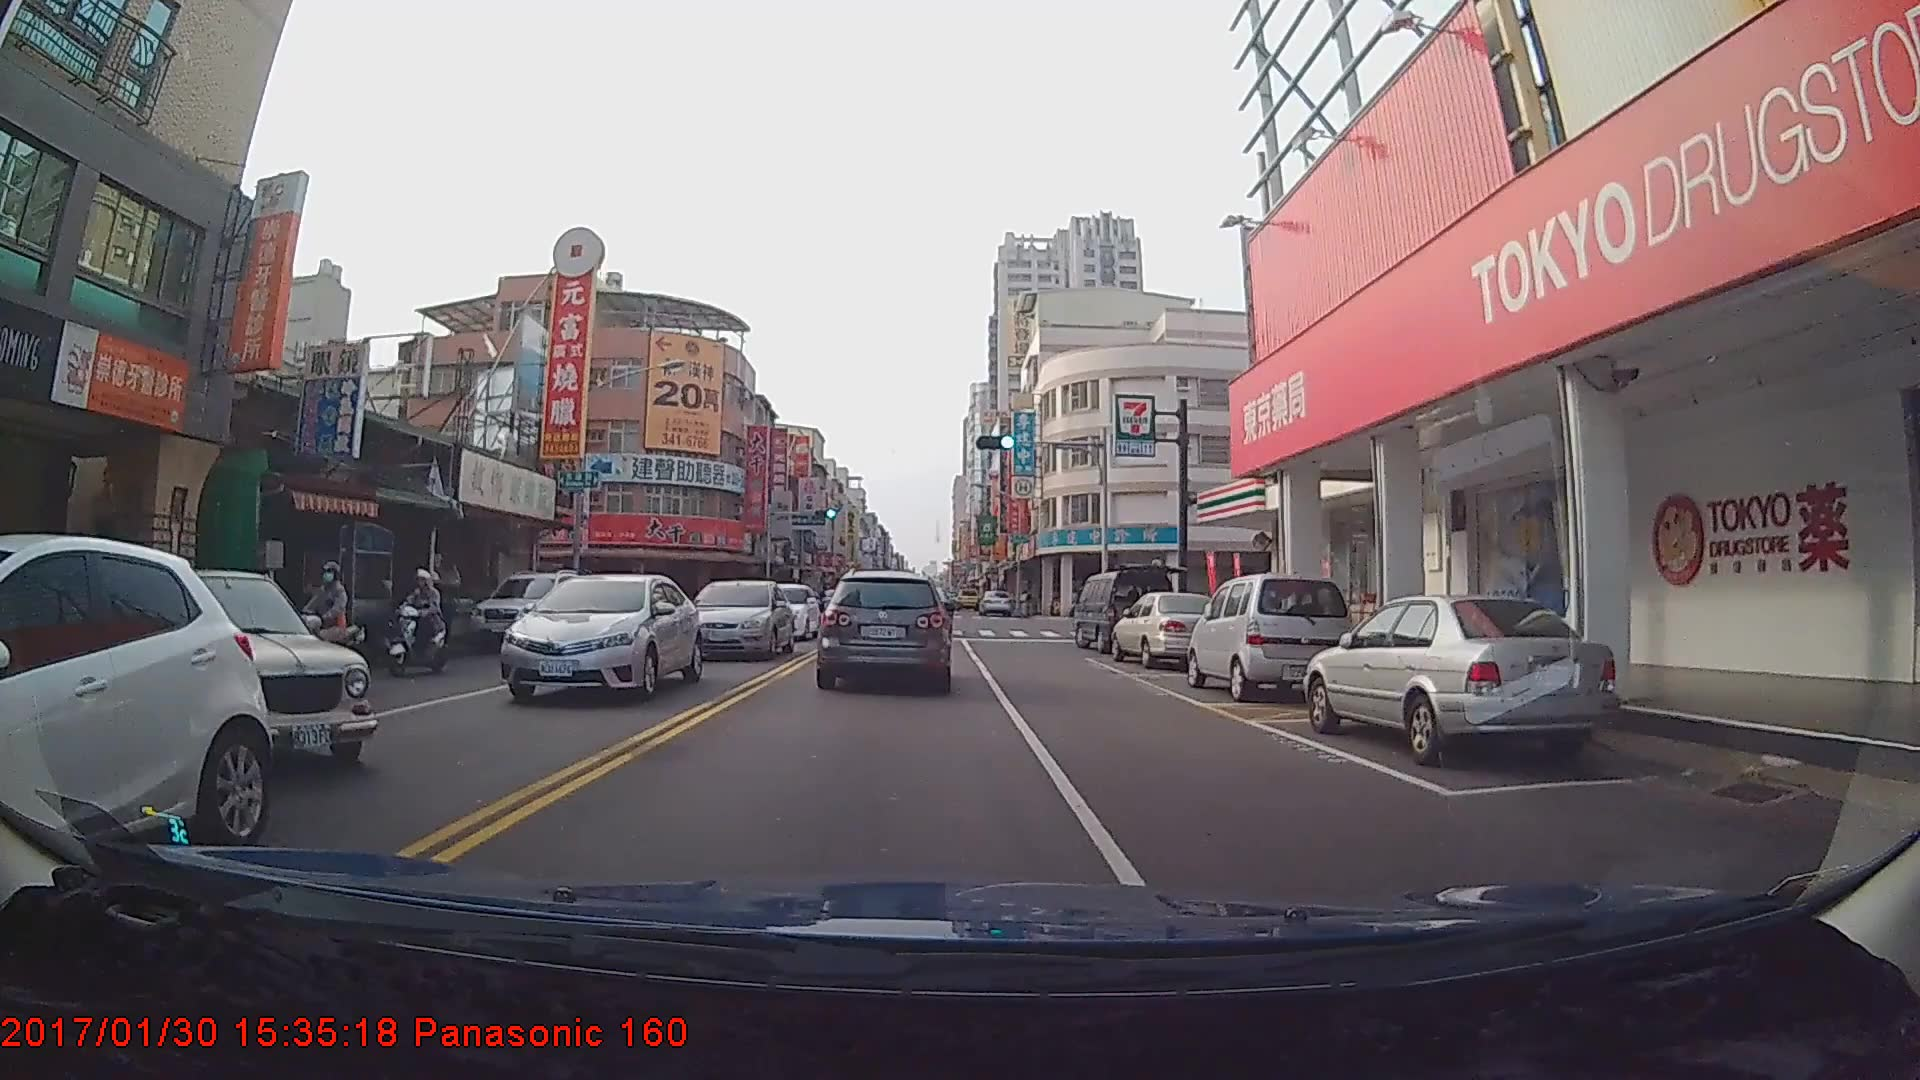rider: (384, 571, 457, 674)
vehicle: (0, 533, 272, 883), (41, 568, 374, 769), (1302, 593, 1616, 765), (490, 576, 692, 712), (1187, 577, 1358, 709), (821, 569, 949, 688), (466, 571, 587, 656), (684, 578, 791, 664), (1115, 593, 1227, 669), (1073, 575, 1175, 655), (749, 583, 819, 643), (976, 590, 1014, 616)
